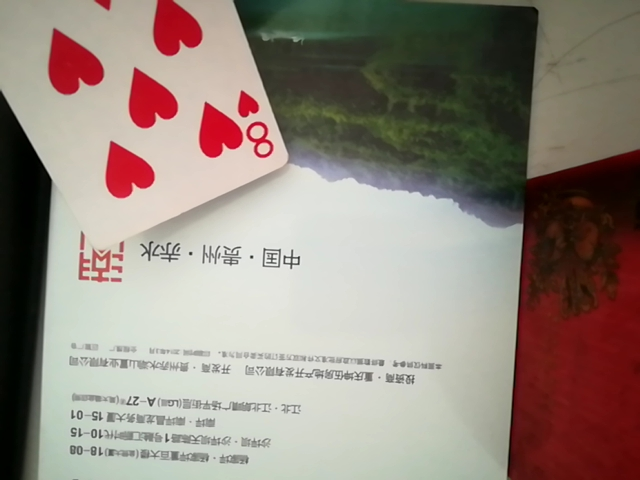hx 8: (0, 0, 287, 264)
